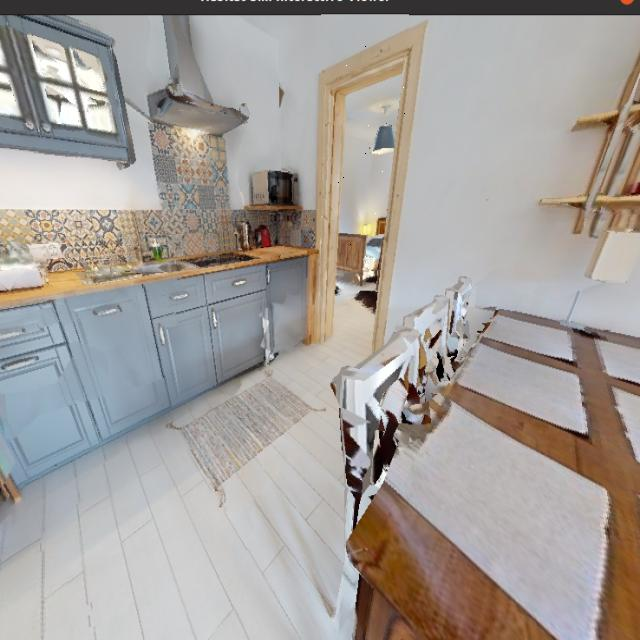door-frame: (321, 10, 409, 368)
table: (321, 302, 640, 640)
